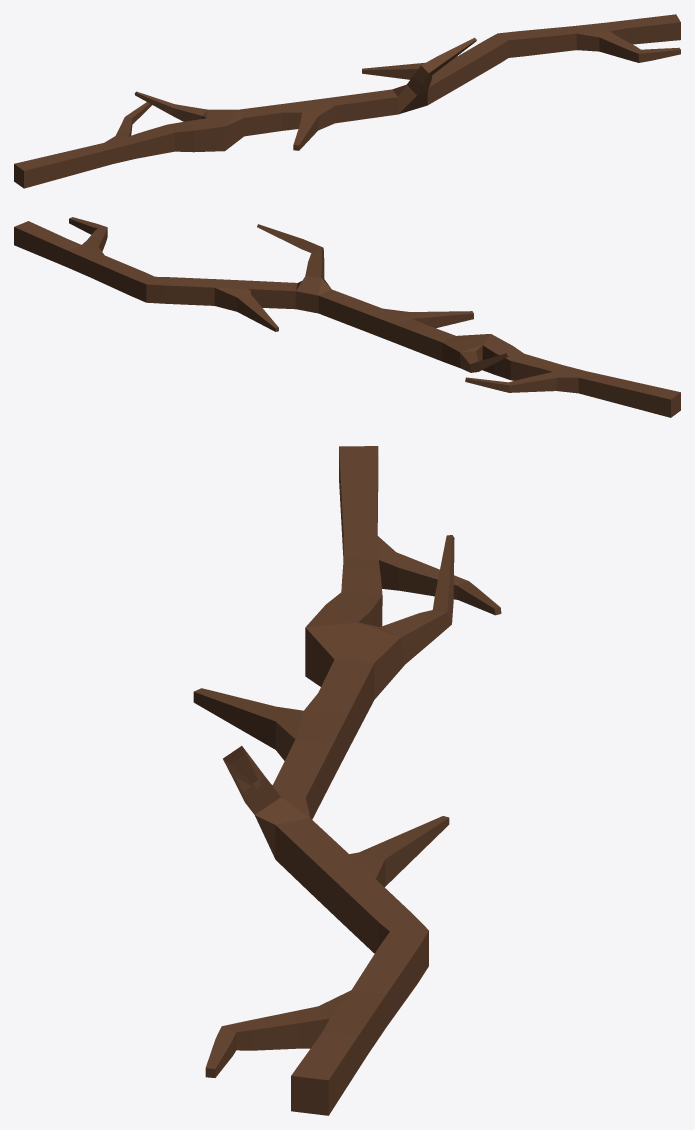
The model's file is Obstacle_Earth_Stick.fbx.
3 views of the same model, one above another, from view 1: azimuth 30°, elevation 25°; view 2: azimuth 150°, elevation 25°; view 3: azimuth 270°, elevation 25° (orthographic). The views are drawn at different scales.
Visible parts, largest first — view 1: Earth Stick; view 2: Earth Stick; view 3: Earth Stick.
Part boxes in pixels (box(x1,y1,x2,y2)): Earth Stick: box(14, 14, 680, 188); Earth Stick: box(14, 217, 680, 417); Earth Stick: box(193, 446, 501, 1115).
Size of the model in its own units: 2716 by 257 by 557.
